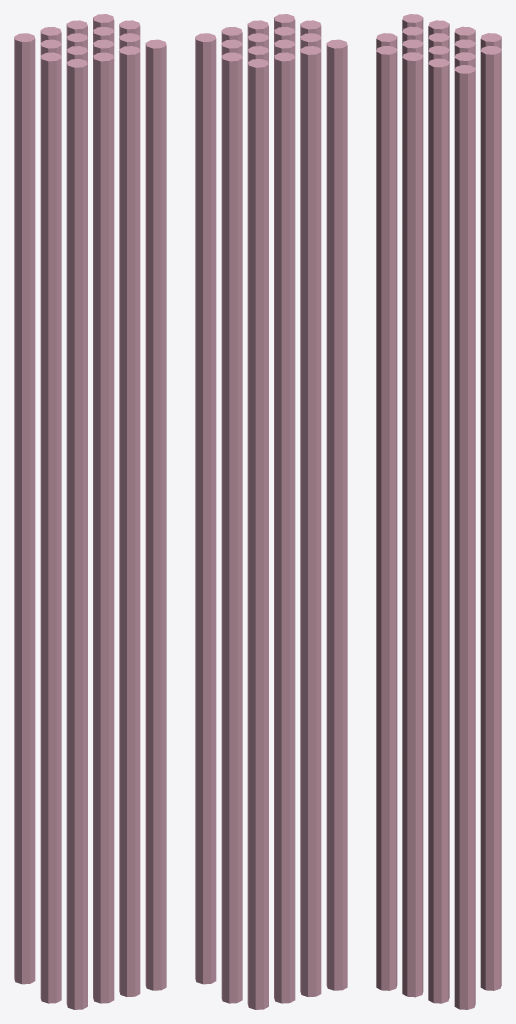
The model's file is myocyteOnlyTest.glb.
3 renders of one model, left to right at view 1: azimuth 30°, elevation 25°; view 2: azimuth 210°, elevation 25°; view 3: azimuth 330°, elevation 25°, orthographic.
Visible parts, largest first — view 1: Cylinder.283, Cylinder.018, Cylinder.208, Cylinder.032, Cylinder.284, Cylinder.202, Cylinder.131, Cylinder.280, Cylinder.036, Cylinder.204, Cylinder.014, Cylinder.127 (+95 smaller); view 2: Cylinder.265, Cylinder.260, Cylinder.036, Cylinder.299, Cylinder.113, Cylinder.111, Cylinder.108, Cylinder.030, Cylinder.183, Cylinder.279, Cylinder.303, Cylinder.186 (+98 smaller); view 3: Cylinder.284, Cylinder.208, Cylinder.302, Cylinder.204, Cylinder.126, Cylinder.129, Cylinder.206, Cylinder.280, Cylinder.299, Cylinder.303, Cylinder.050, Cylinder.283 (+76 smaller).
Part boxes in pixels (left/top/right/bottom): Cylinder.283: left=145, top=93, right=166, bottom=972; Cylinder.018: left=40, top=52, right=61, bottom=931; Cylinder.208: left=119, top=46, right=140, bottom=873; Cylinder.032: left=14, top=286, right=34, bottom=965; Cylinder.284: left=145, top=39, right=166, bottom=984; Cylinder.202: left=119, top=349, right=140, bottom=983; Cylinder.131: left=93, top=106, right=114, bottom=928; Cylinder.280: left=145, top=244, right=166, bottom=973; Cylinder.036: left=14, top=87, right=35, bottom=929; Cylinder.204: left=119, top=248, right=140, bottom=993; Cylinder.014: left=40, top=255, right=61, bottom=930; Cylinder.127: left=93, top=306, right=114, bottom=995; Cylinder.265: left=247, top=59, right=268, bottom=943; Cylinder.260: left=247, top=310, right=268, bottom=994; Cylinder.036: left=326, top=93, right=347, bottom=951; Cylinder.299: left=221, top=255, right=242, bottom=873; Cylinder.113: left=300, top=46, right=321, bottom=993; Cylinder.111: left=300, top=149, right=321, bottom=911; Cylinder.108: left=300, top=300, right=321, bottom=992; Cylinder.030: left=326, top=392, right=347, bottom=976; Cylinder.183: left=274, top=355, right=295, bottom=979; Cylinder.279: left=195, top=285, right=216, bottom=979; Cylinder.303: left=221, top=52, right=242, bottom=970; Cylinder.186: left=274, top=205, right=295, bottom=975; Cylinder.284: left=454, top=65, right=475, bottom=998; Cylinder.208: left=428, top=58, right=449, bottom=923; Cylinder.302: left=480, top=100, right=501, bottom=983; Cylinder.204: left=428, top=261, right=449, bottom=999; Cylinder.126: left=403, top=352, right=423, bottom=955; Cylinder.129: left=402, top=205, right=423, bottom=930; Cylinder.206: left=428, top=163, right=449, bottom=986; Cylinder.280: left=454, top=267, right=475, bottom=996; Cylinder.299: left=480, top=249, right=501, bottom=960; Cylinder.303: left=480, top=46, right=501, bottom=982; Cylinder.050: left=376, top=346, right=397, bottom=975; Cylinder.283: left=454, top=118, right=475, bottom=983.
Size of the model in its own units: 117 by 950 by 92.
